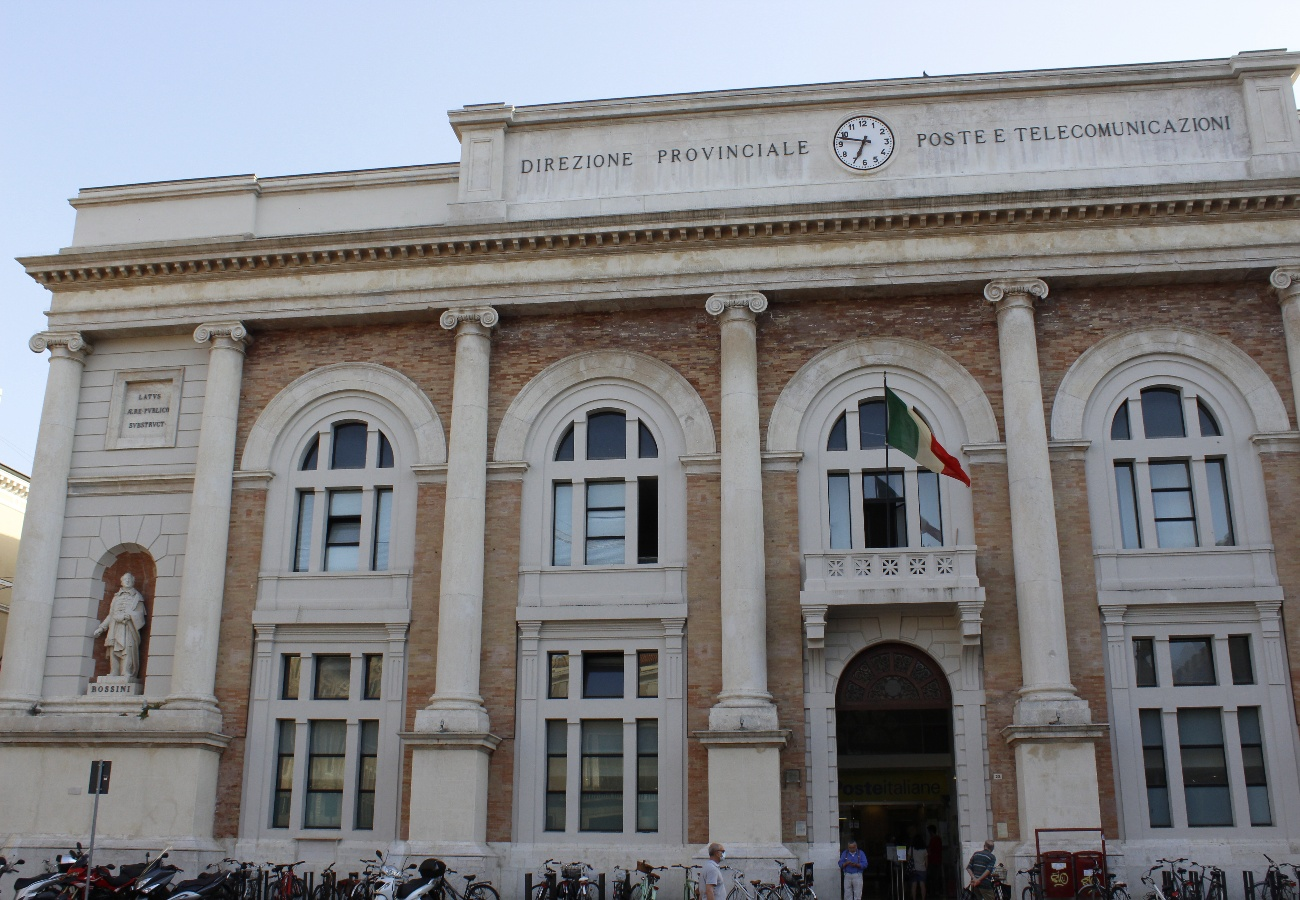Gioachino Rossini: (83, 545, 158, 704)
Palazzo delle Poste: (3, 47, 1300, 900)
